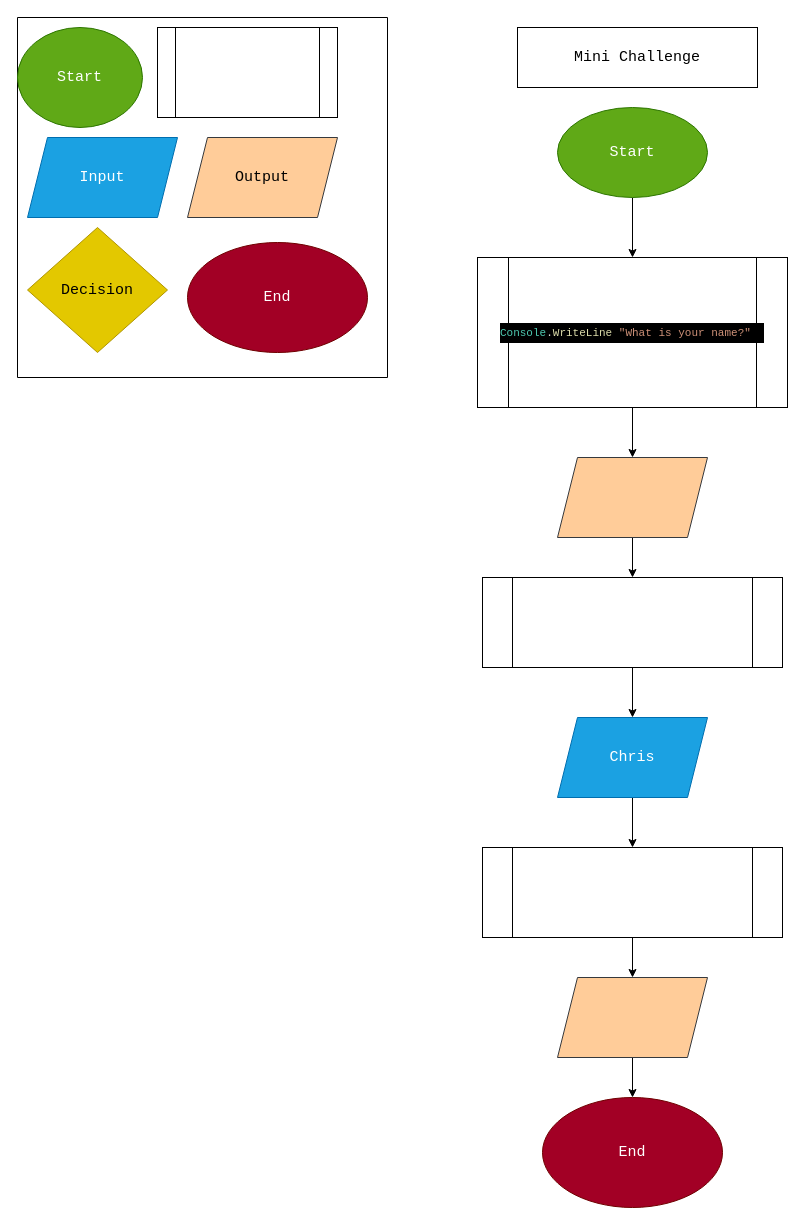
This 805x1225 diagram has some shape labels left out. Here are the shapes that lost their labels. From the top down, the centre of each, then its label:
point 247,72: Process
point 632,497: What is your name?
point 632,622: string myName = Console . ReadLine ();
point 632,892: Console . WriteLine ( "Hello " + myName );
point 632,1017: Hello Chris
